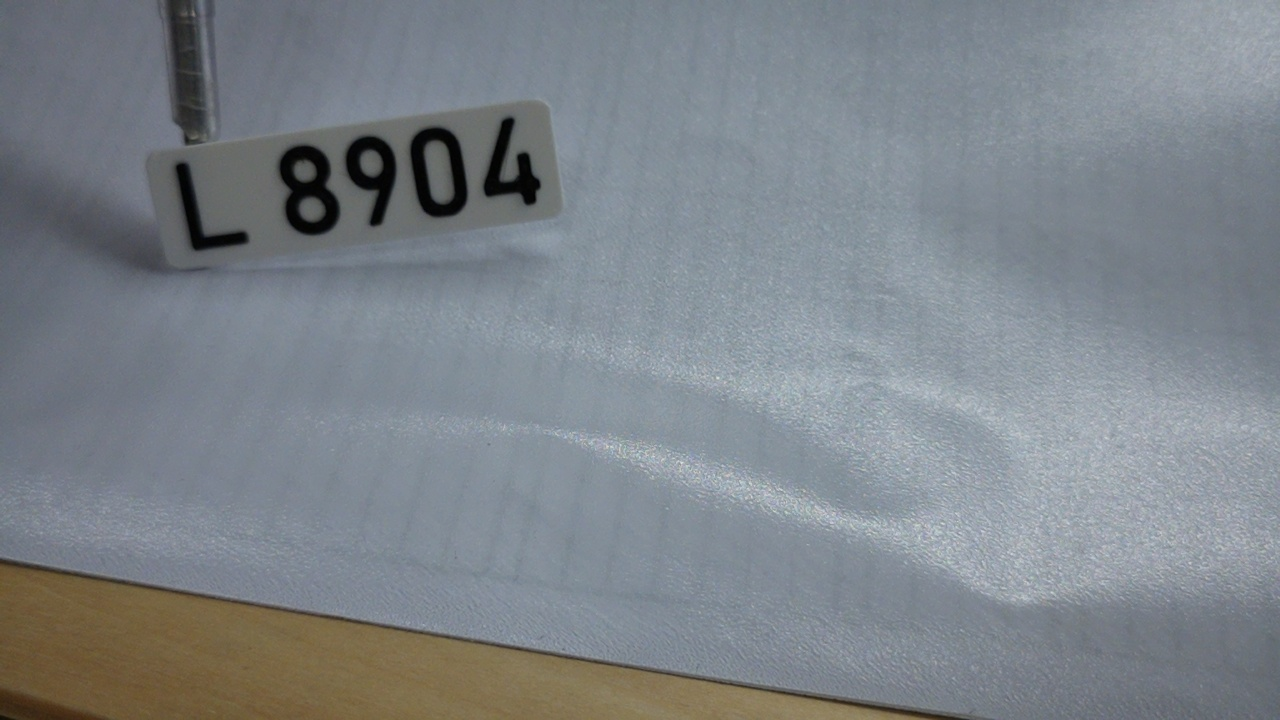license_plate: (142, 95, 568, 273), (134, 181, 142, 186)
